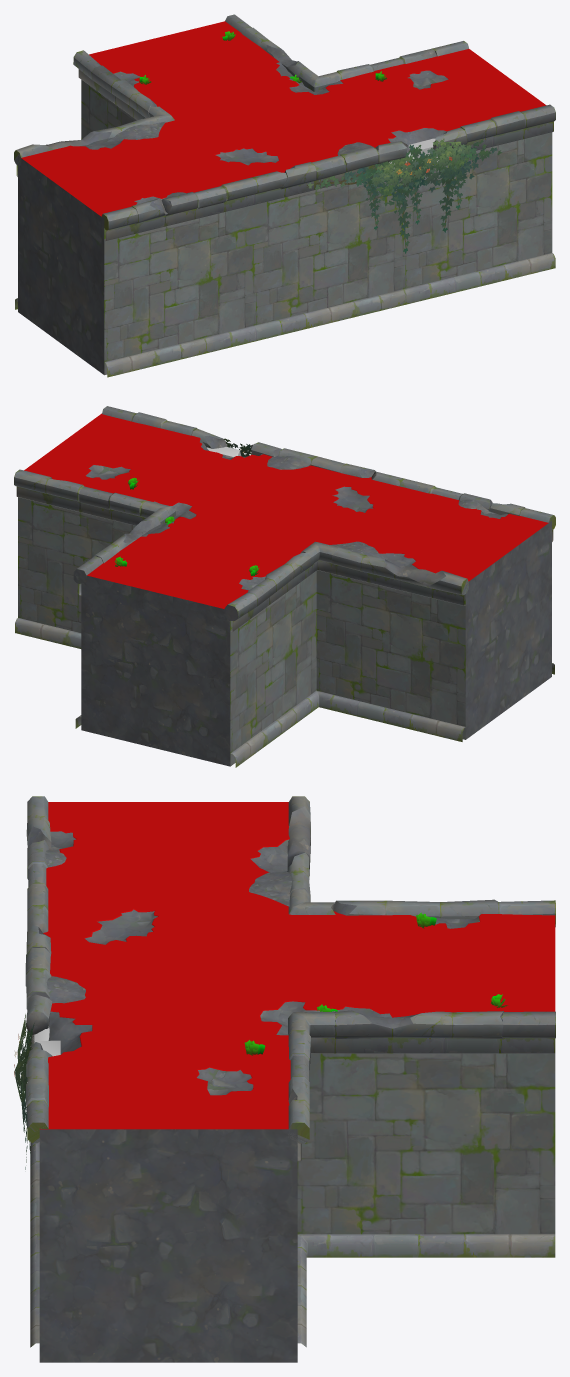
Rendered from Area_MdBuild_SdPlatform06_Group.fbx.
3 renders of one model, top to bottom at view 1: azimuth 30°, elevation 25°; view 2: azimuth 150°, elevation 25°; view 3: azimuth 270°, elevation 25°, orthographic. The views are drawn at different scales.
Visible parts, largest first — view 1: Area_MdBuild_SdPlatform06_Lod0, Stages_LYLvy03_Vo (1); view 2: Area_MdBuild_SdPlatform06_Lod0; view 3: Area_MdBuild_SdPlatform06_Lod0, Stages_LYLvy03_Vo (1).
Part boxes in pixels (x1=…): Area_MdBuild_SdPlatform06_Lod0: x1=14, y1=14, x2=555, y2=377; Stages_LYLvy03_Vo (1): x1=306, y1=138, x2=502, y2=253; Area_MdBuild_SdPlatform06_Lod0: x1=14, y1=406, x2=555, y2=767; Area_MdBuild_SdPlatform06_Lod0: x1=25, y1=796, x2=555, y2=1362; Stages_LYLvy03_Vo (1): x1=14, y1=1014, x2=34, y2=1186.
Size of the model in its own units: 30.02 by 10.66 by 21.02.
